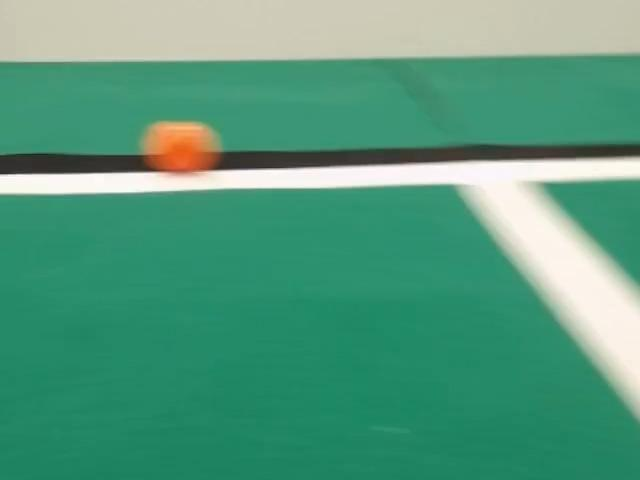Ball: (142, 121, 220, 172)
